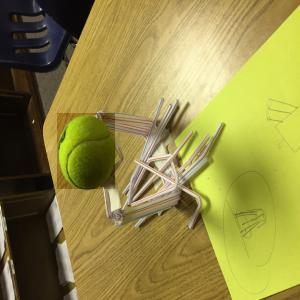TennisBall: (58, 114, 117, 191)
